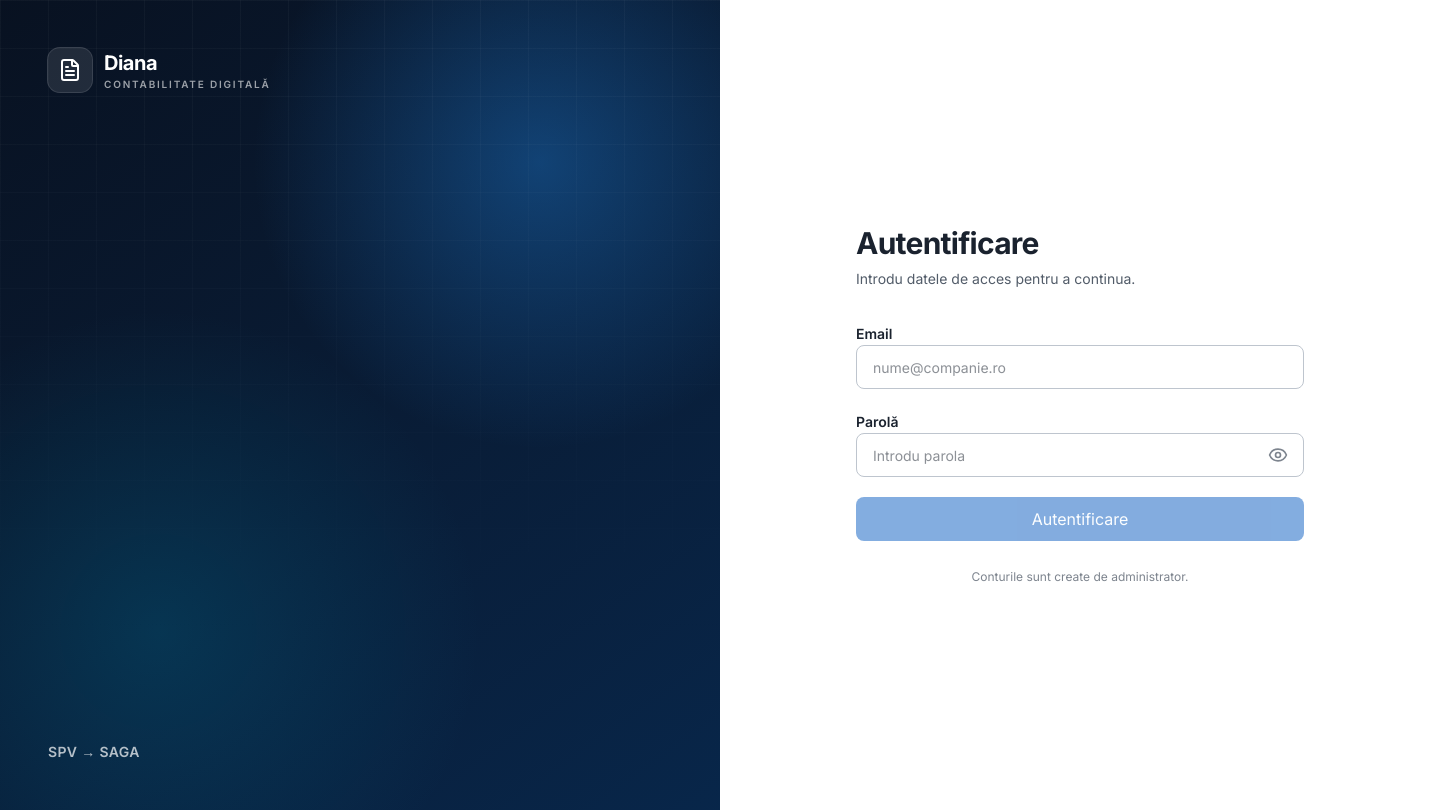
Test: invalid login stays on the generic Romanian error
The width and height of the screenshot is (1440, 810).
Check: the heading "Autentificare" is shown, box [856,225,1039,261]
Type "demo@accountingtechco.com" into the field labelled "Email" at {"x": 1080, "y": 367}, box [856,345,1304,389]
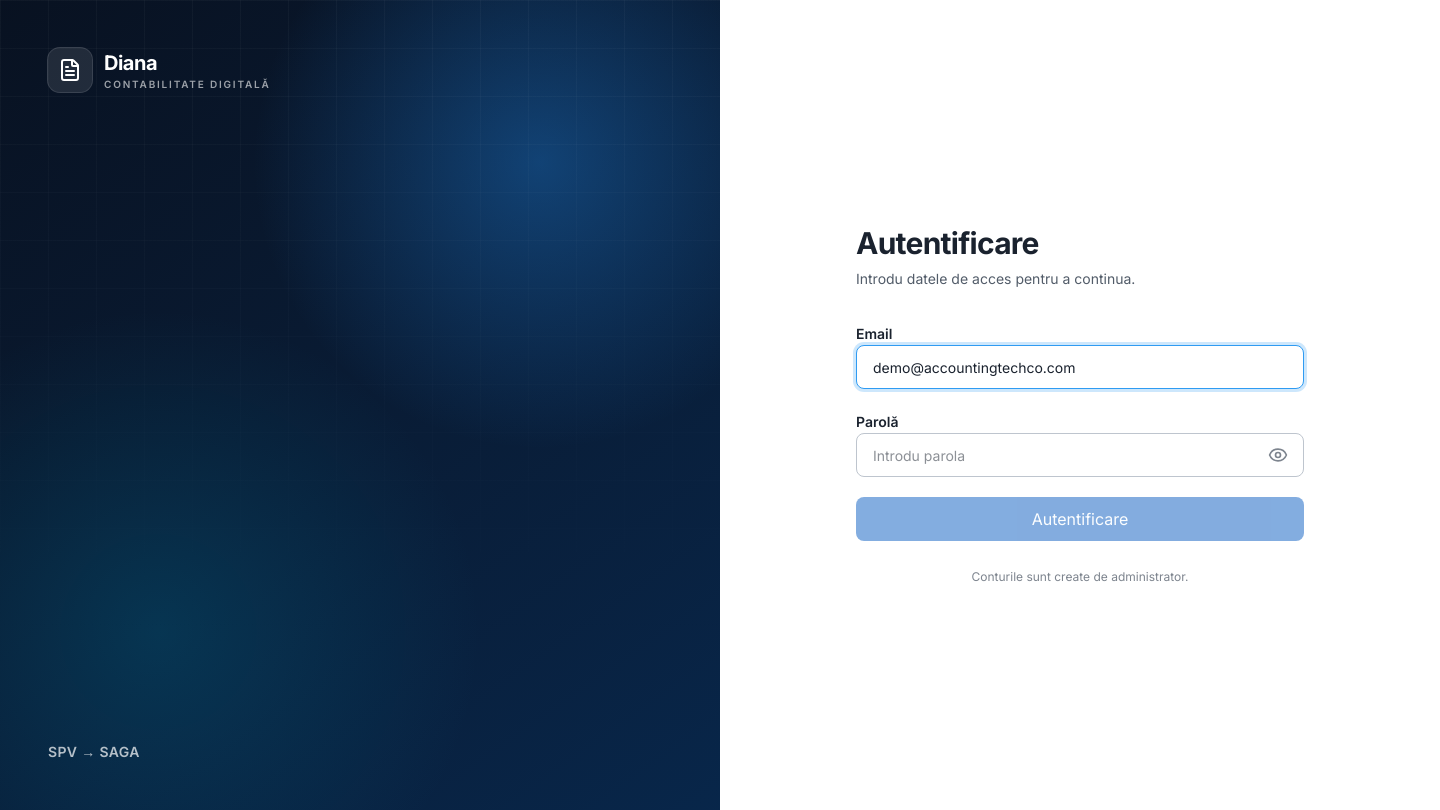
Type "Wrong-Password-2026!" into the password field labelled "Parolă" at {"x": 1080, "y": 455}, box [856,433,1304,477]
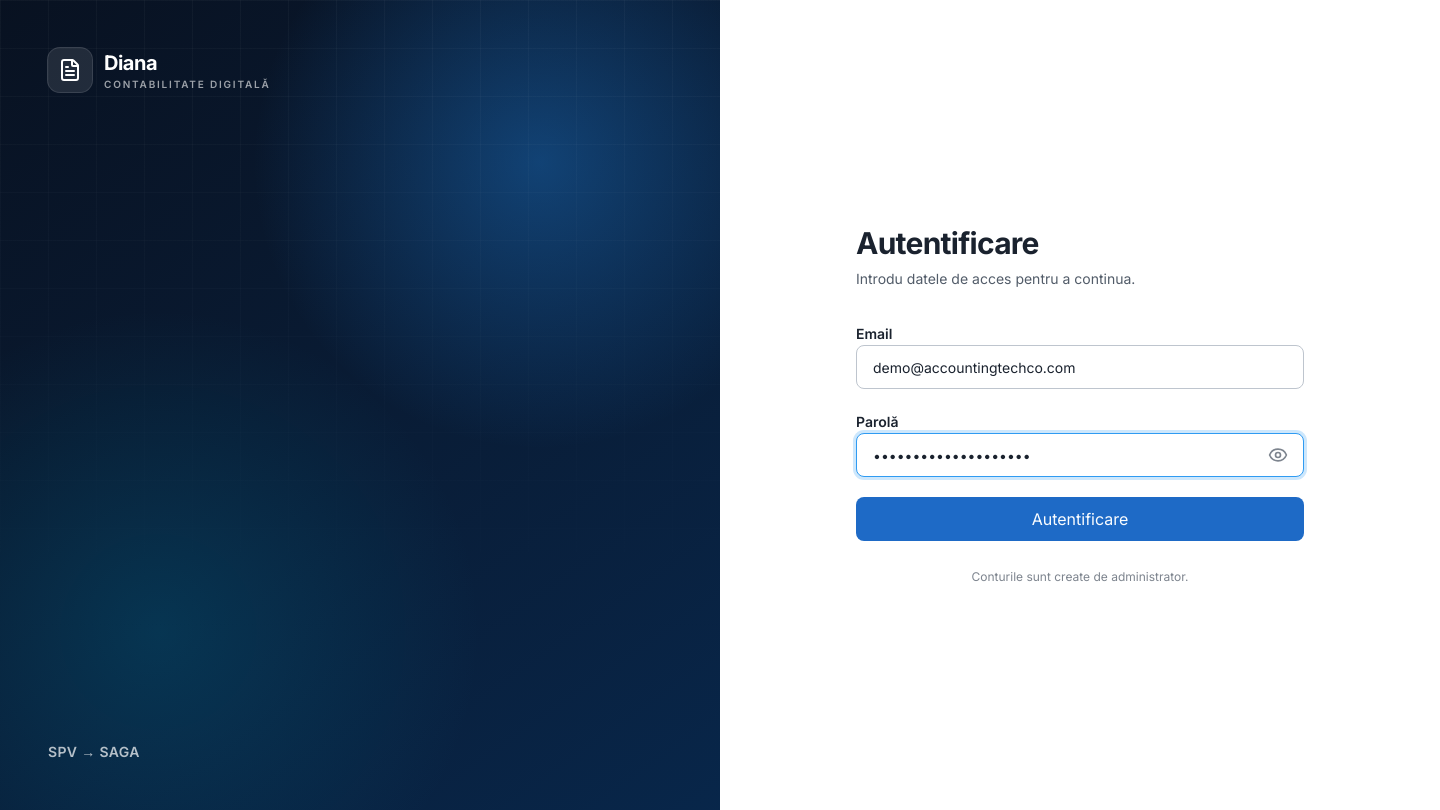
Click the button "Autentificare" at {"x": 1080, "y": 519}, box [856,497,1304,541]
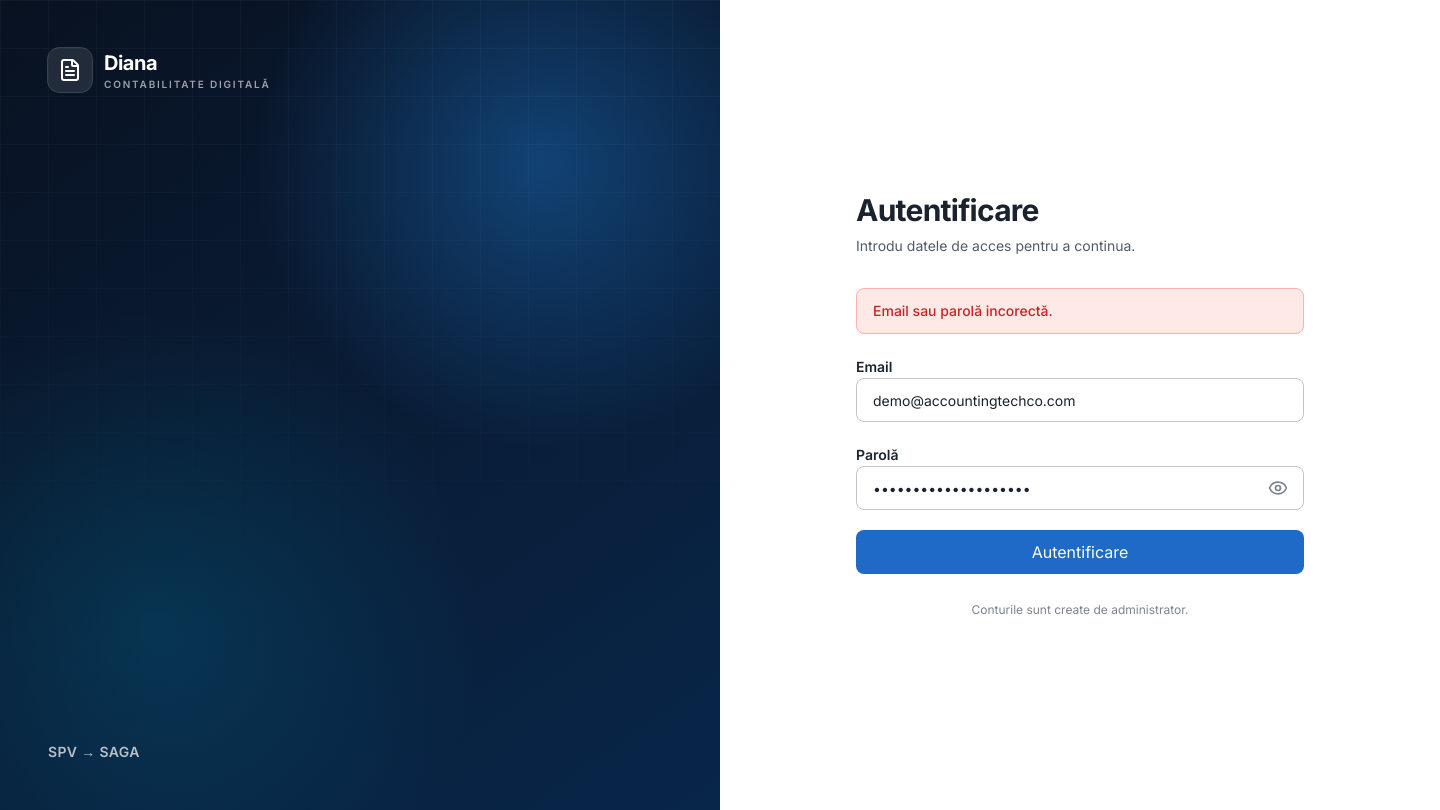
Check: the message reads "Email sau parolă incorectă.", box [873,302,1053,319]
